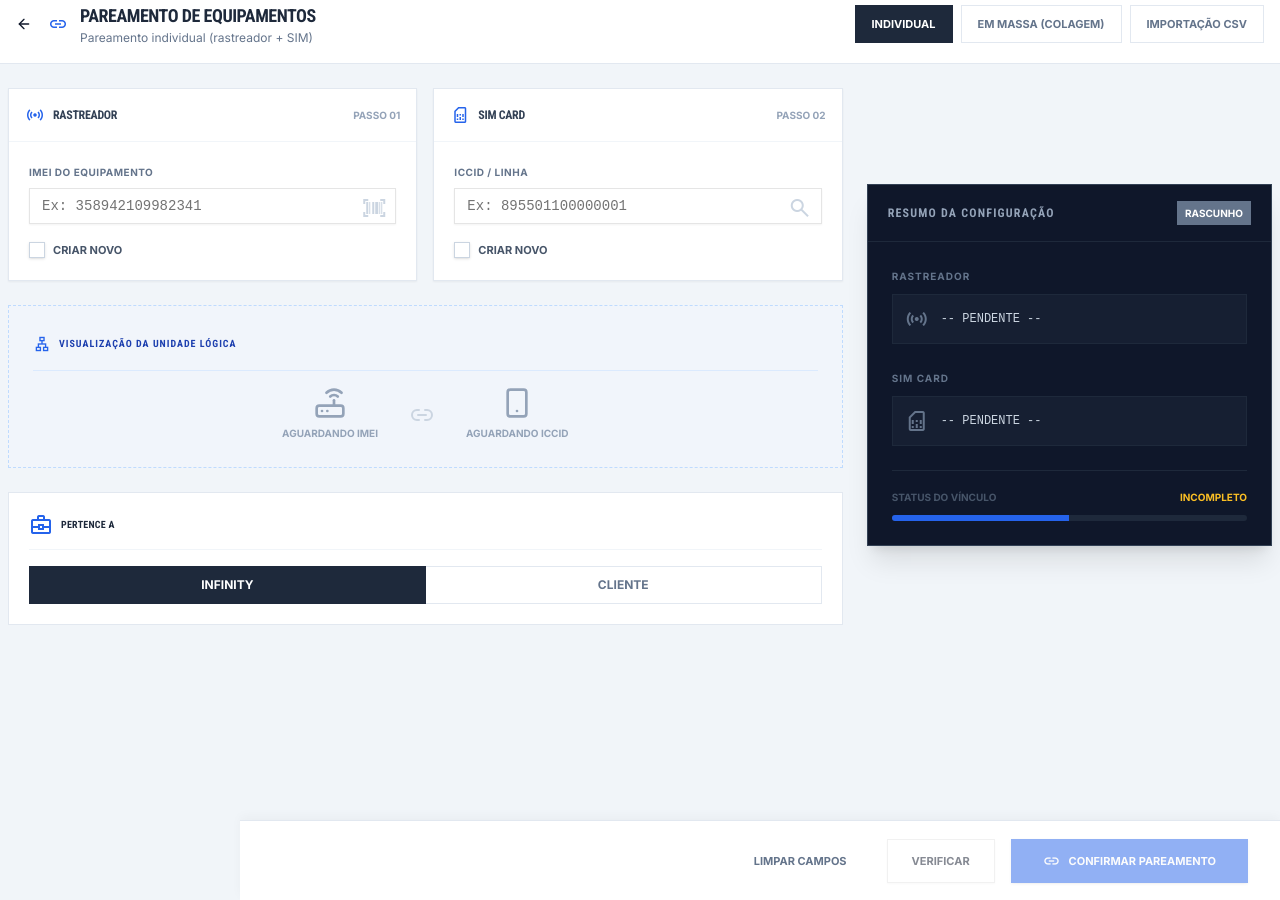
Scenario: PareamentoPage — CRIAR NOVO rastreador (modo individual) › ao desmarcar CRIAR NOVO, campos de criação somem
Click the checkbox named "criar novo" below "IMEI do Equipamento" at (37, 250), box [29, 242, 45, 258]
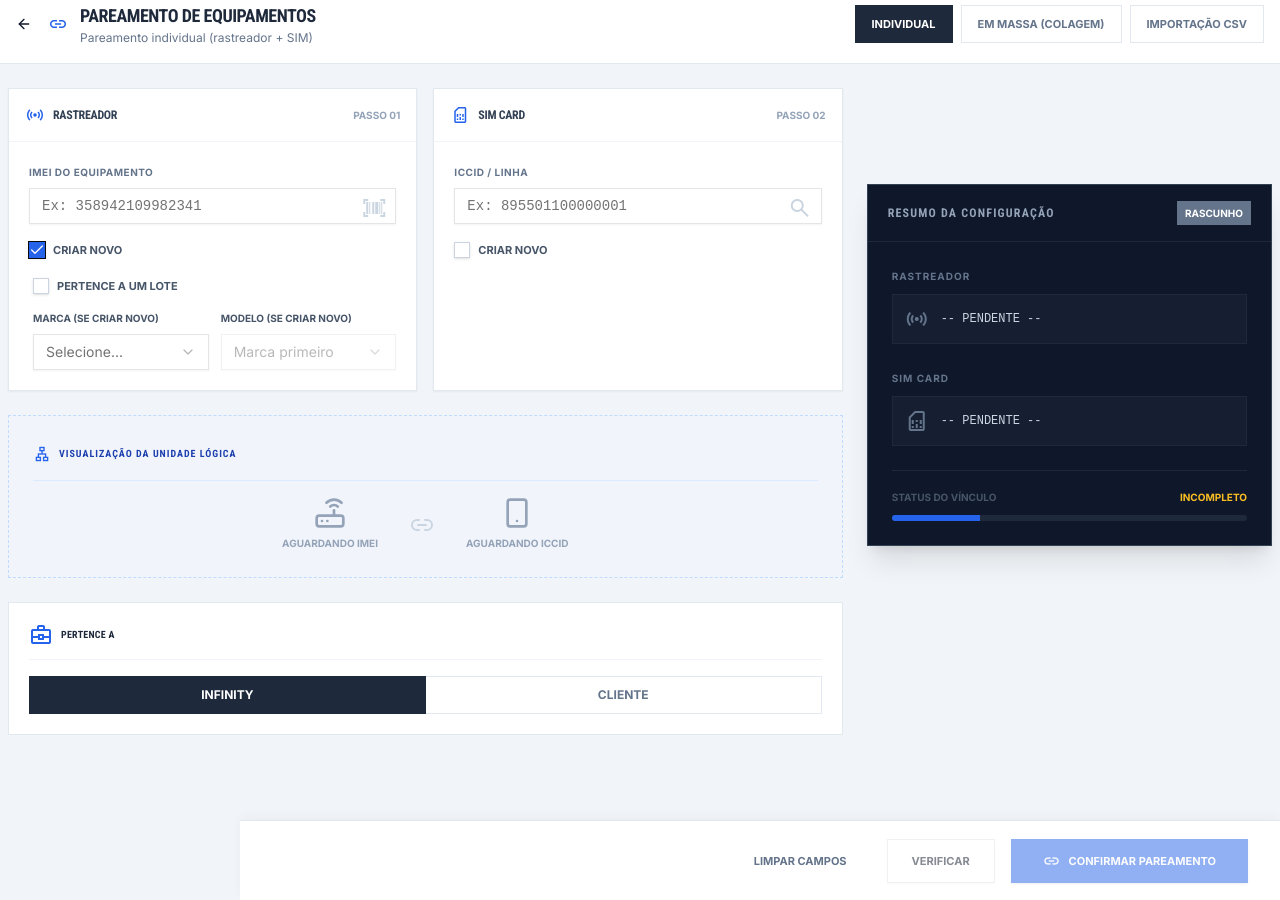
Click the 1st checkbox named "criar novo" at (37, 250), box [29, 242, 45, 258]
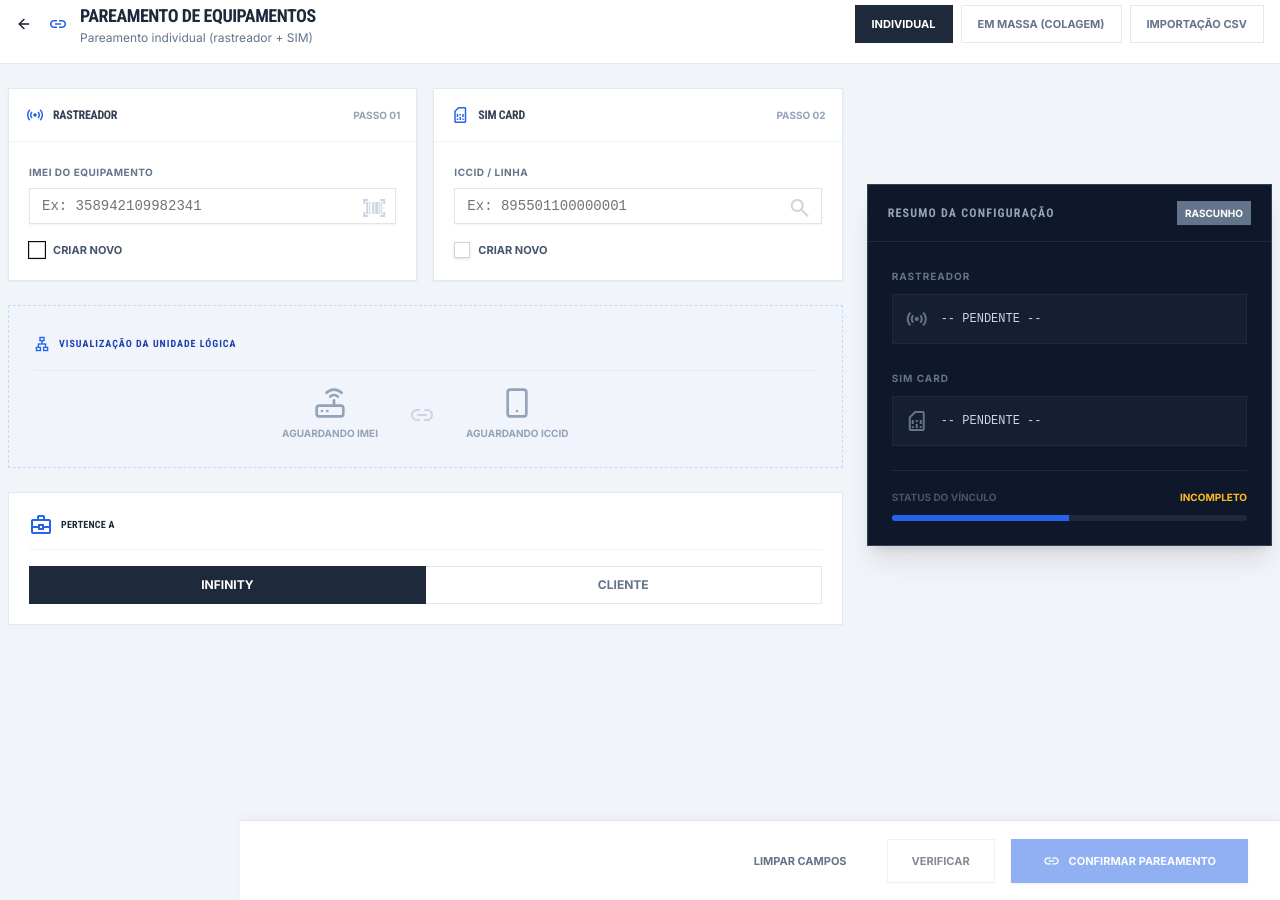
Expected: the text "Marca (se criar novo)" is gone
Expected: the text "Pertence a um lote" is gone
